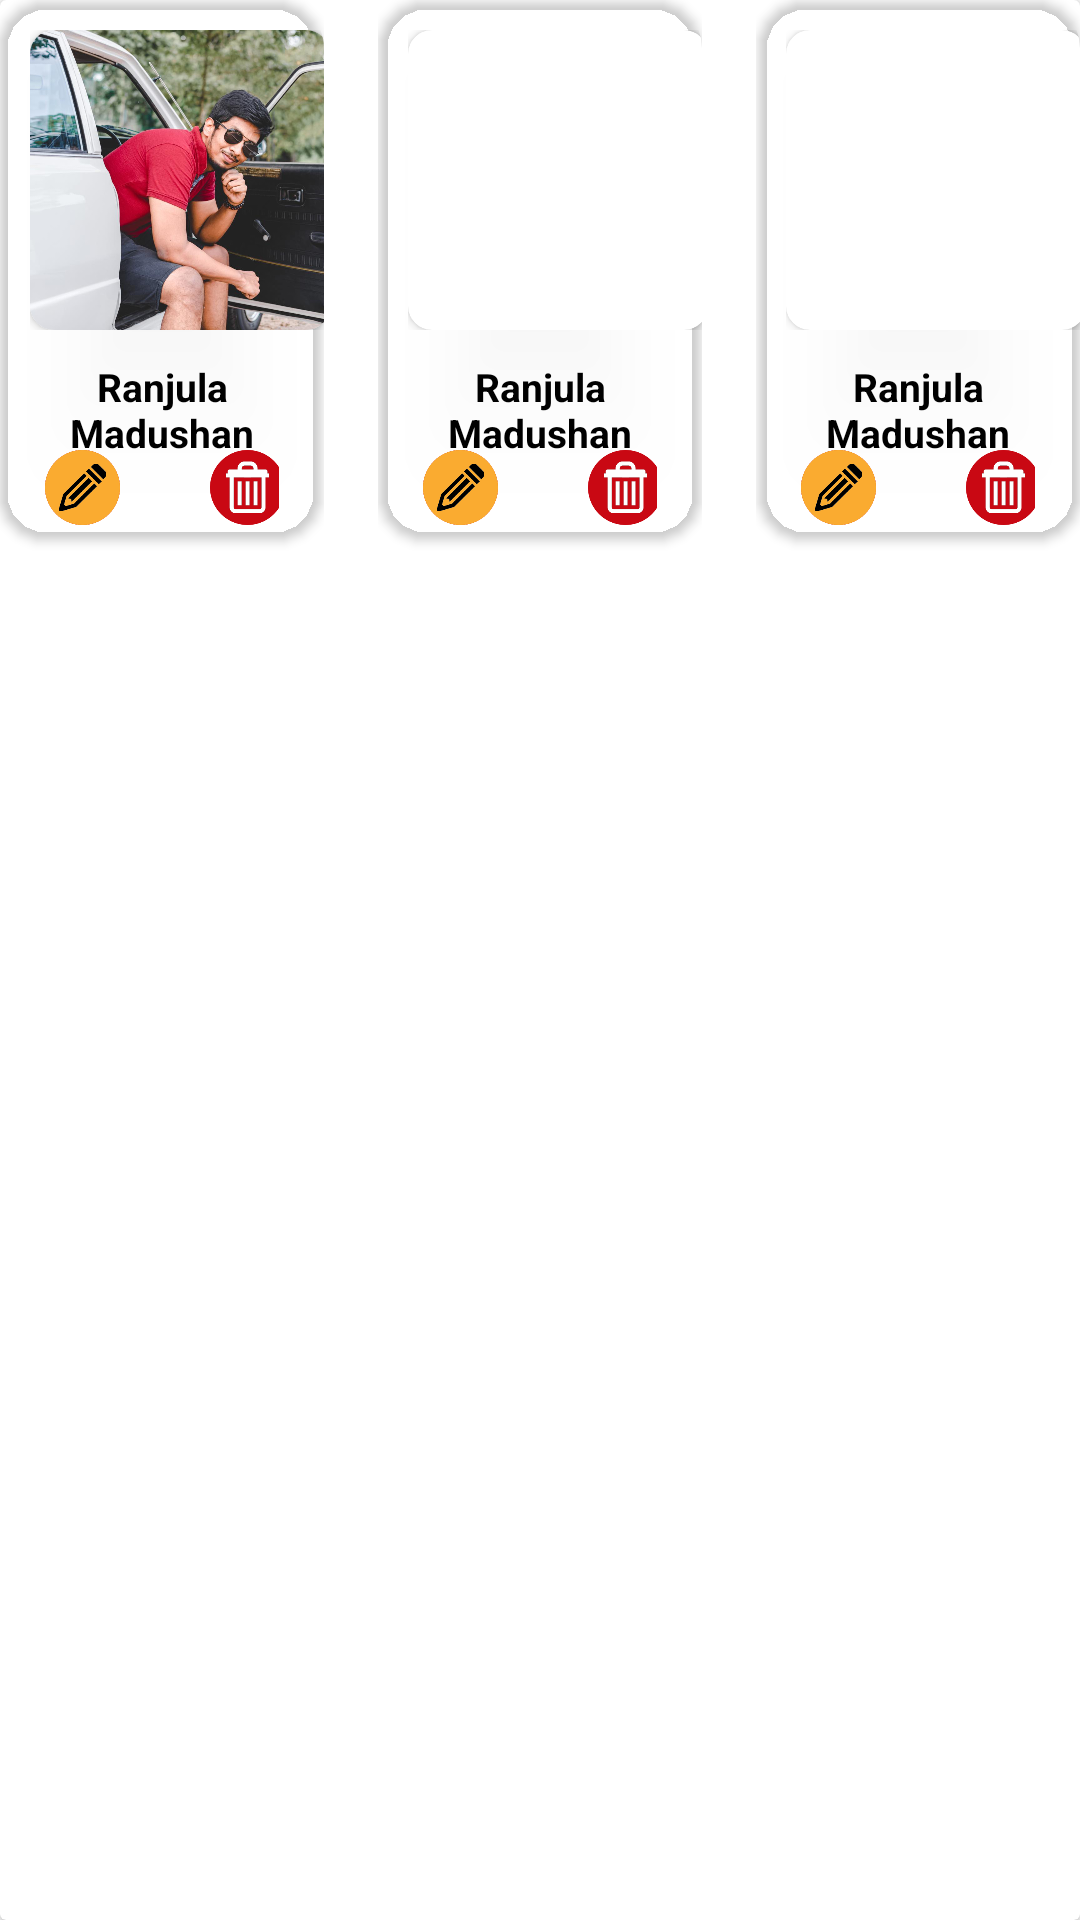

Icons on this 1080×1920 Android screen, each with the point to tap as (x=x, y=y):
delete: (x=244, y=487), (x=622, y=487), (x=1000, y=487)
